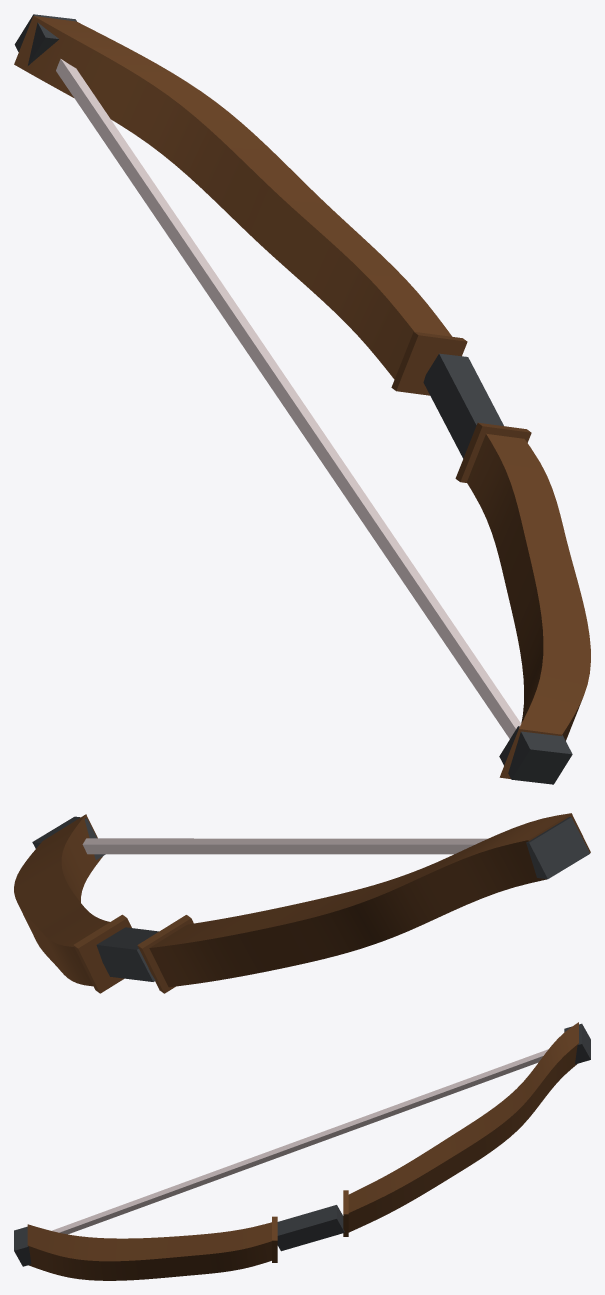
3 views of the same model, one above another, from view 1: azimuth 30°, elevation 25°; view 2: azimuth 210°, elevation 25°; view 3: azimuth 270°, elevation 25° (orthographic). The views are drawn at different scales.
Visible parts, largest first — view 1: bow; view 2: bow; view 3: bow.
Part boxes in pixels (x1,y1,x2,y2): bow: [14, 14, 590, 784]; bow: [14, 813, 590, 993]; bow: [14, 1022, 590, 1280].
Size of the model in its own units: 0.3538 by 0.5693 by 1.26.
